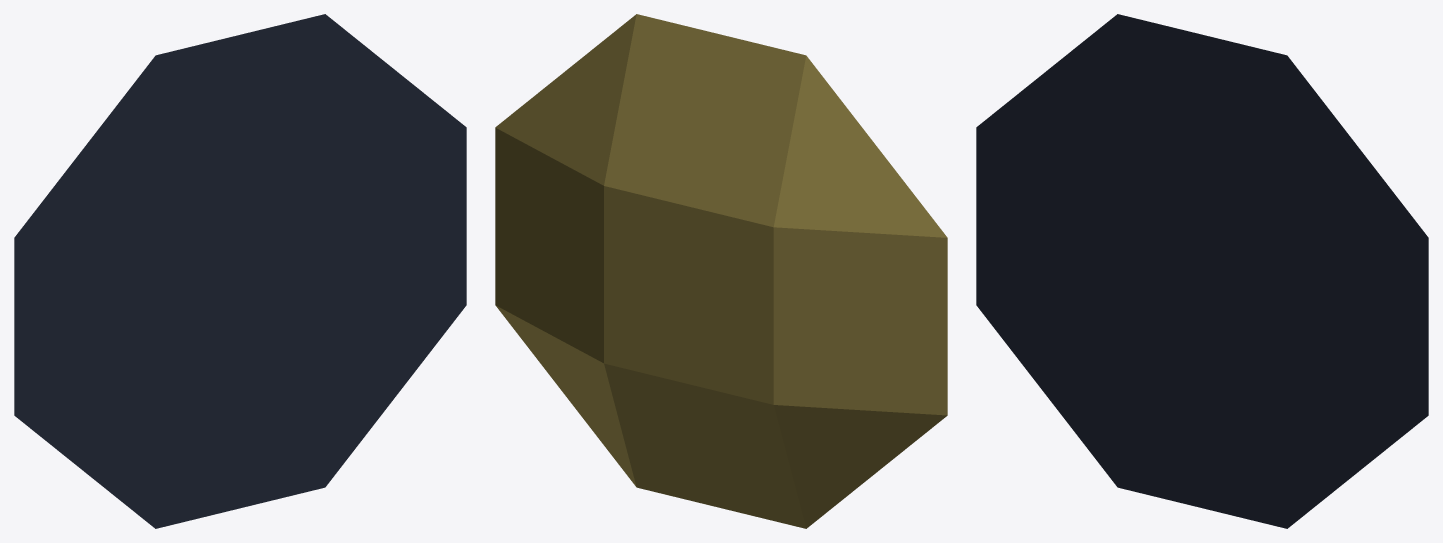
The model's file is Octagon.fbx.
3 views of the same model, side by side, from view 1: azimuth 30°, elevation 25°; view 2: azimuth 150°, elevation 25°; view 3: azimuth 330°, elevation 25° (orthographic).
Parts seen in each view (by area): view 1: Octagon; view 2: Octagon; view 3: Octagon.
Boxes of the visible parts, box(x1,y1,x2,y2) form: Octagon: box(14, 14, 466, 528); Octagon: box(495, 14, 947, 528); Octagon: box(976, 14, 1428, 528).
Size of the model in its own units: 1600 by 1600 by 200.
